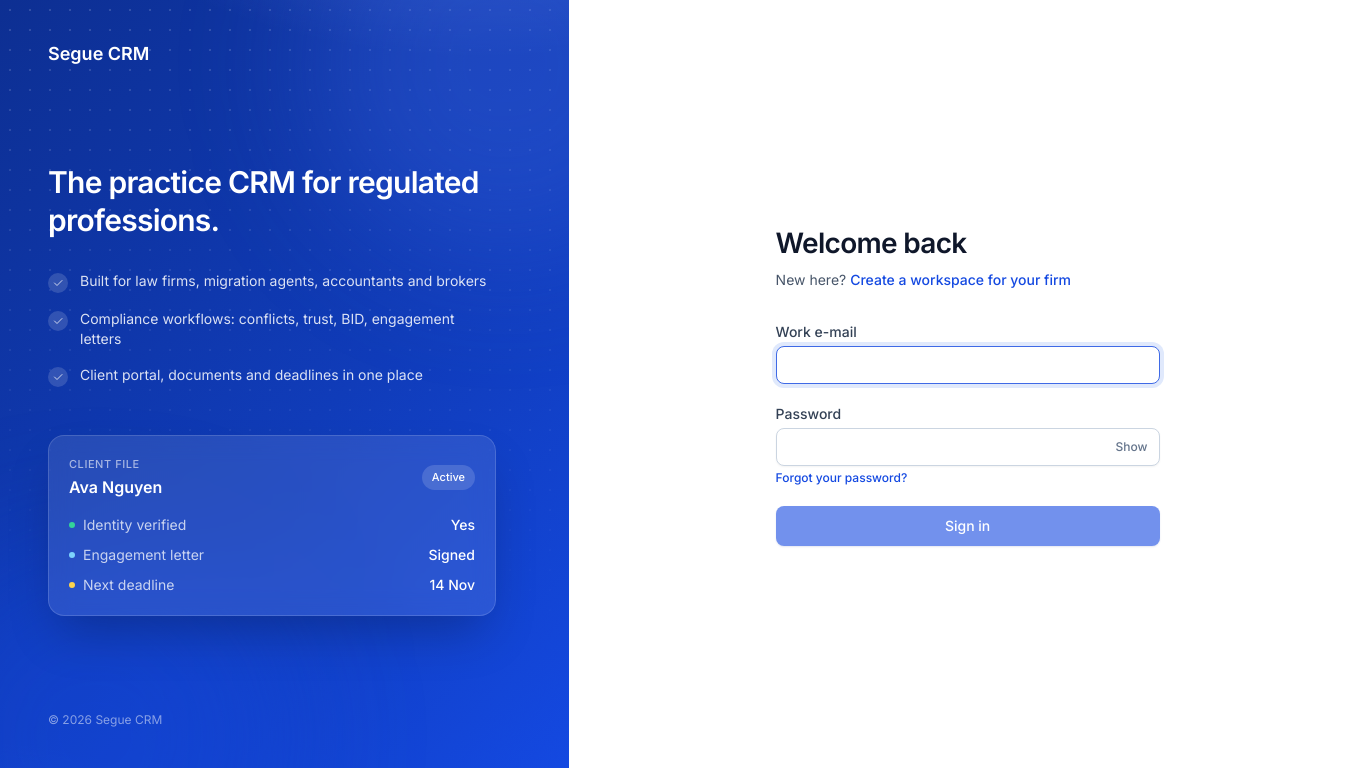
Scenario: login flow › asks for the MFA code when required
In the field labelled "Work e-mail": point(968, 365) [776,346,1160,384], type "admin@demo.example.com"
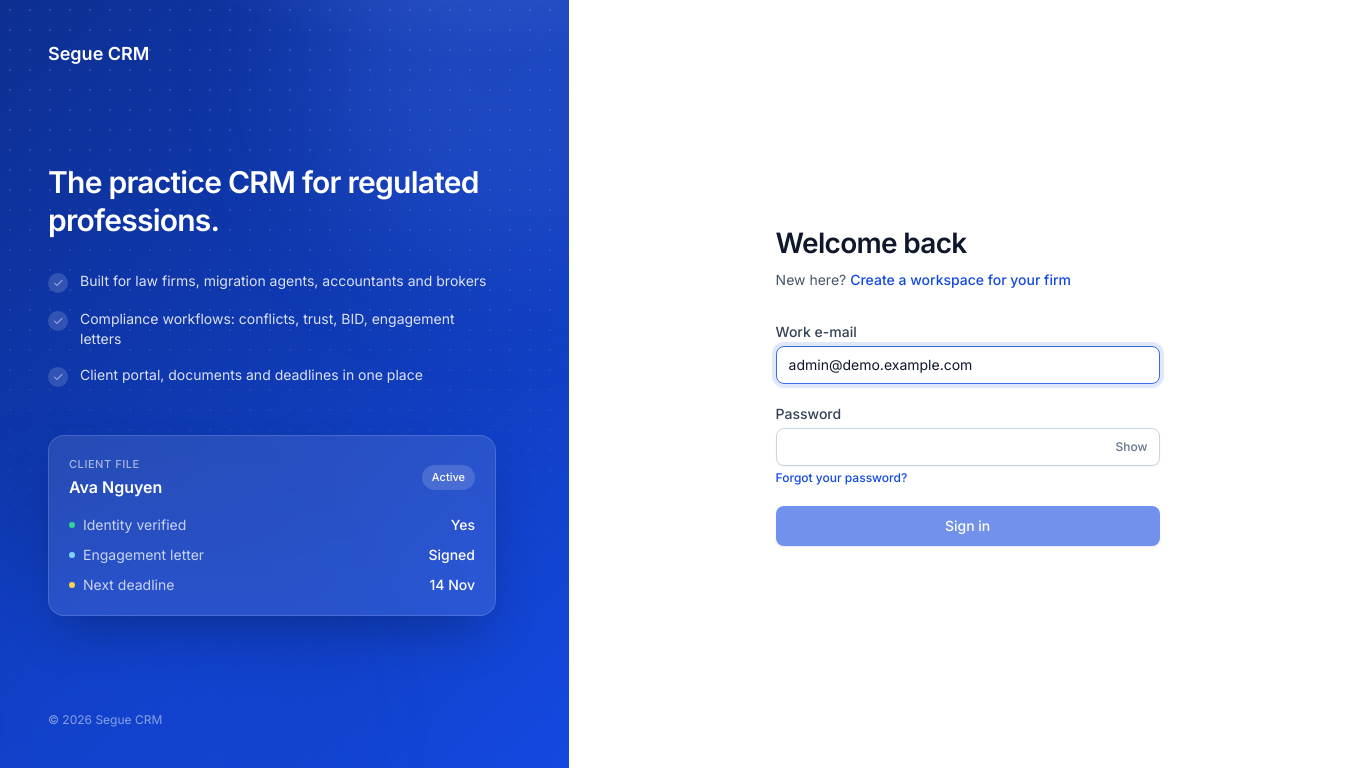
In the password field labelled "Password": point(968, 447) [776,428,1160,466], type "Demo-Password-2026!"
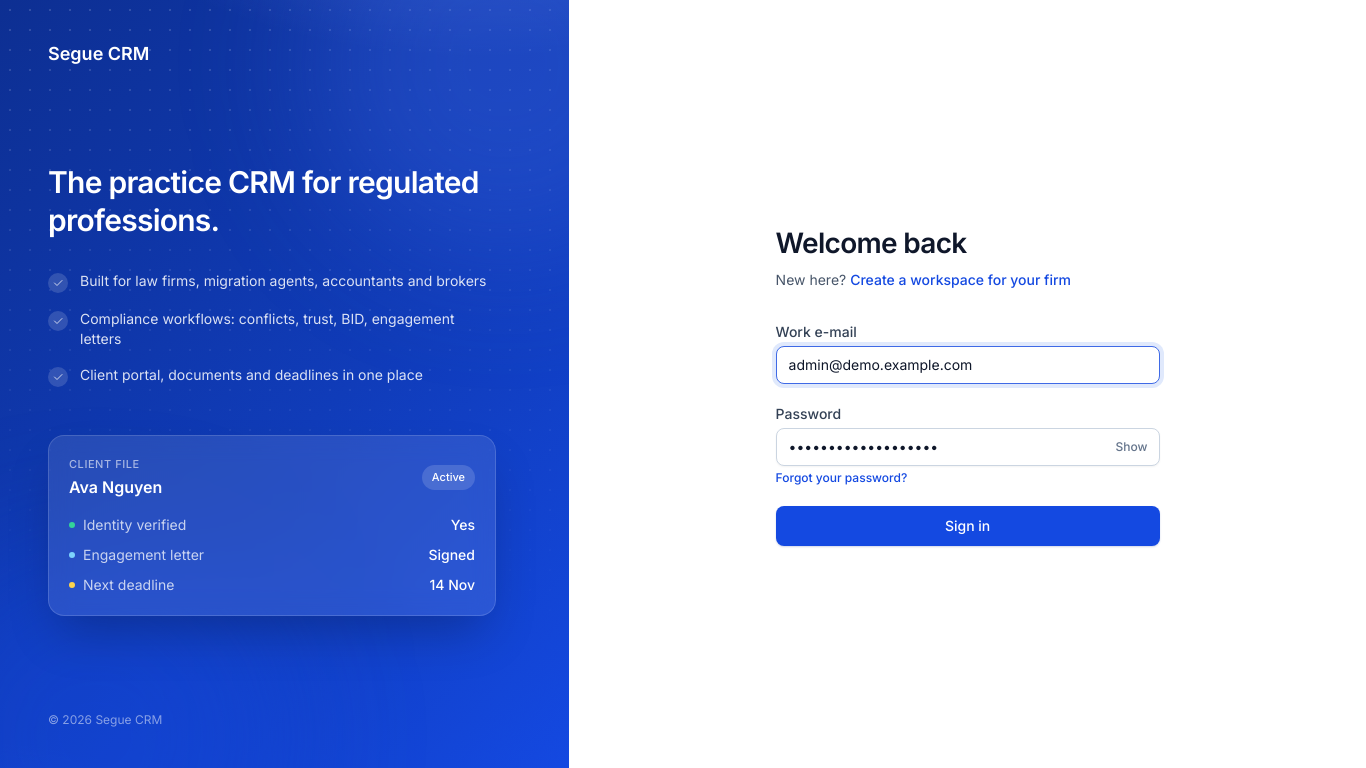
Click the button "Sign in": point(968, 526) [776,506,1160,546]
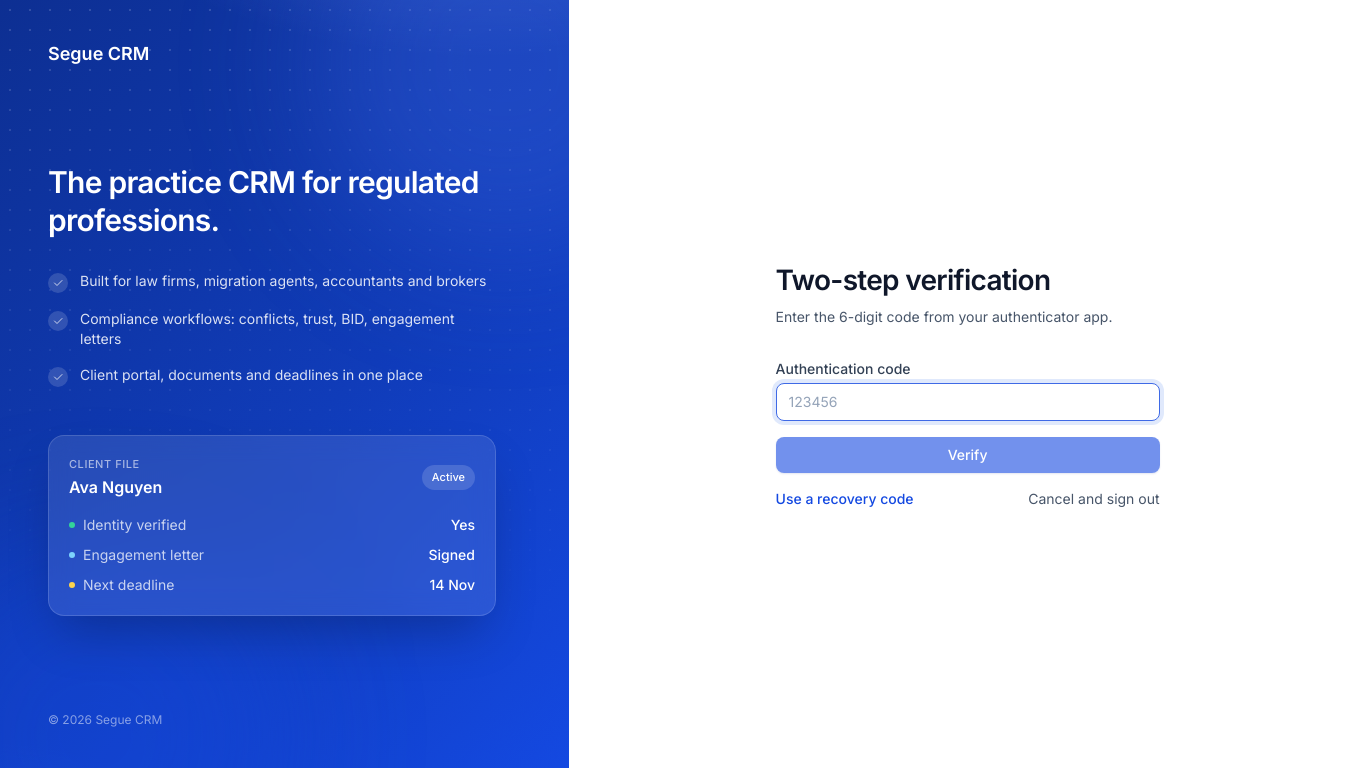
expect the field labelled "Authentication code" is shown: met, box [776,383,1160,421]
